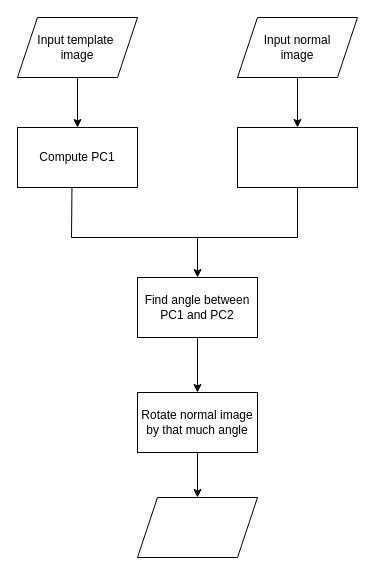
Image size: 375x575. Some labels were removed from this diagram. The centre of each missing label's shape, as x and y in pixels:
Compute PC2: point 297,157
Display rotated image: point 197,527
